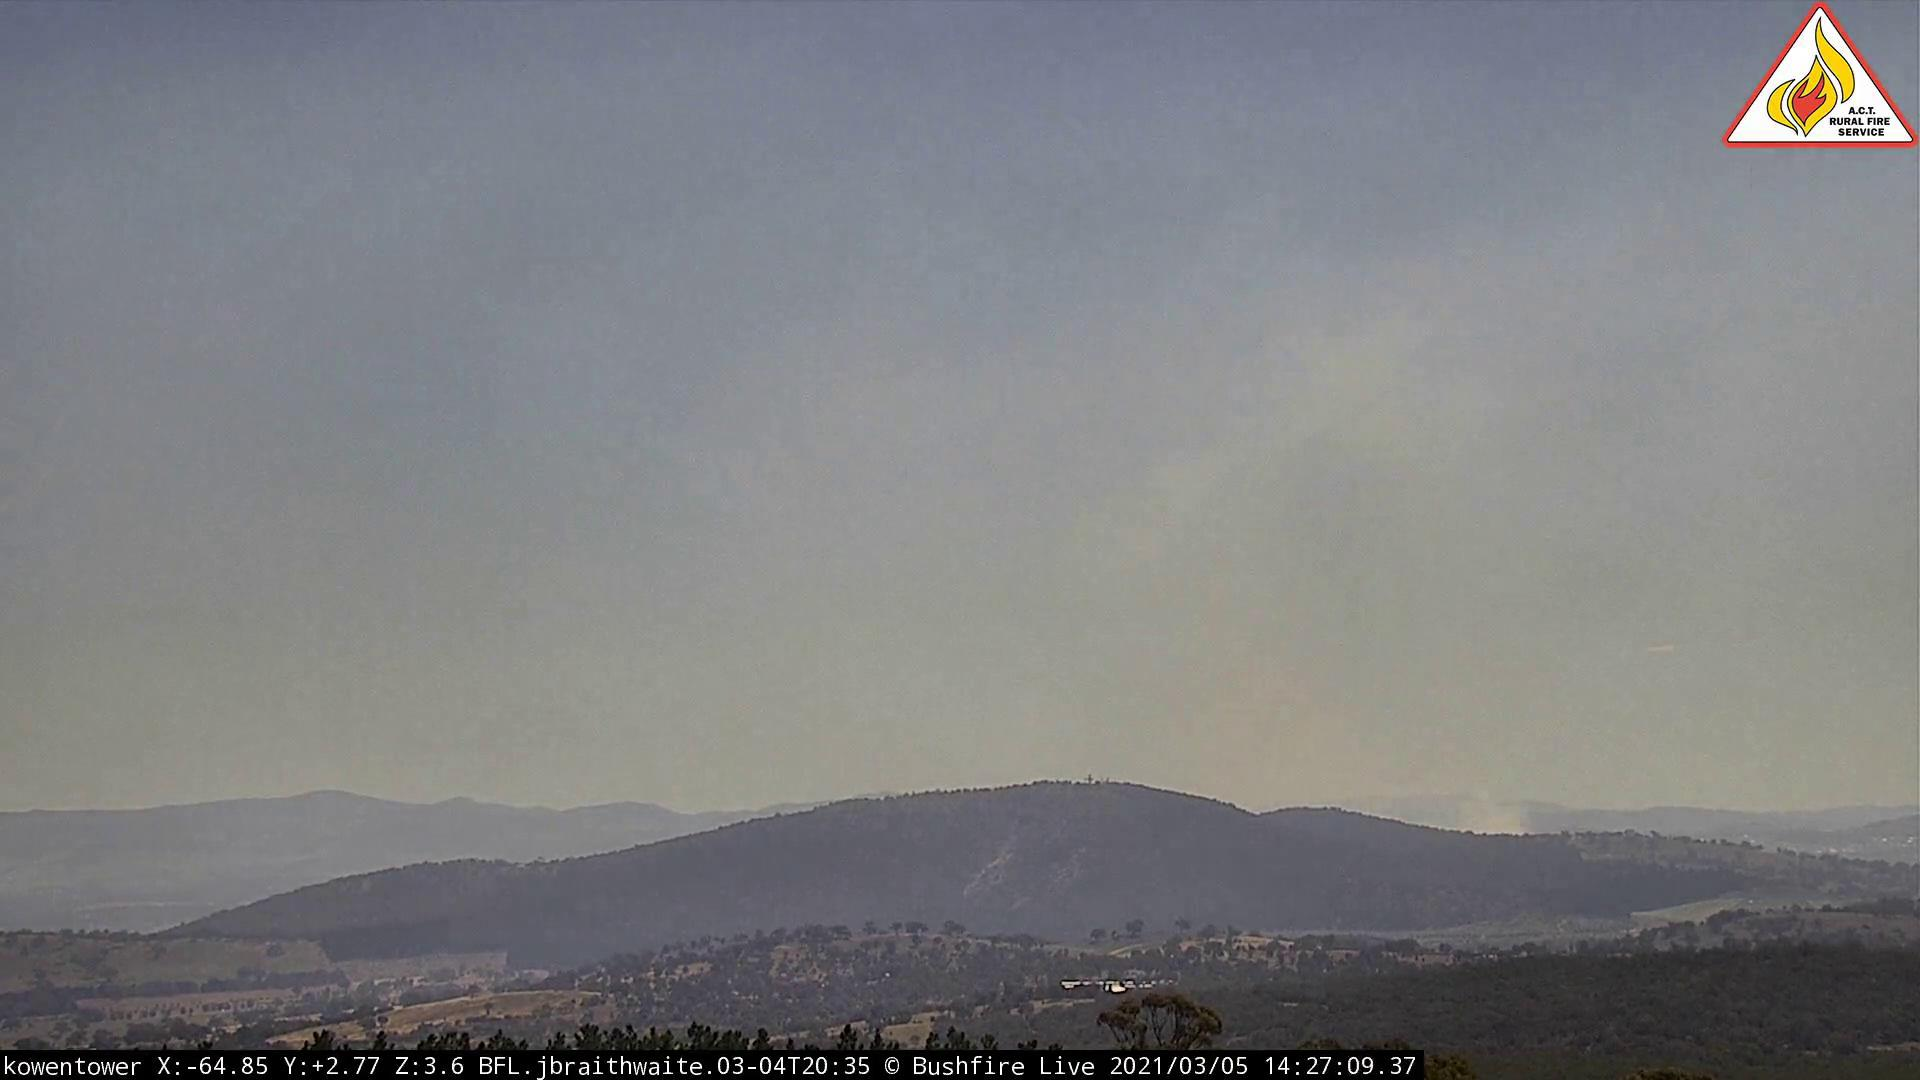instance_salient_object: (1098, 397, 1539, 839)
